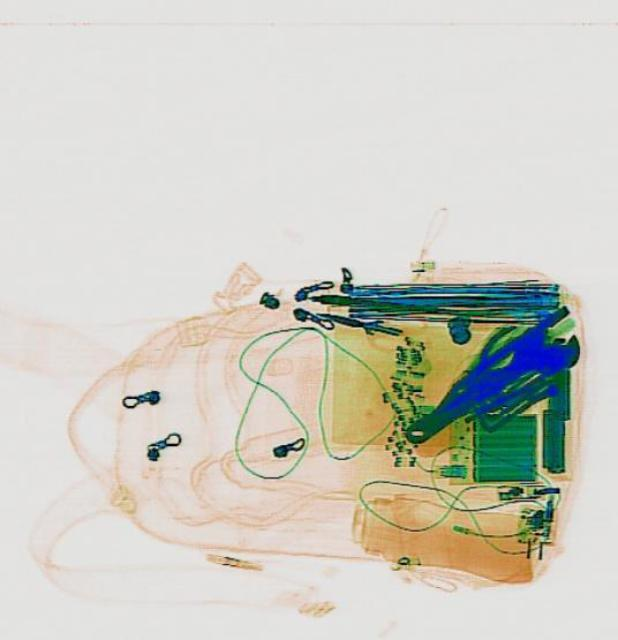Wrench: (387, 310, 588, 456)
